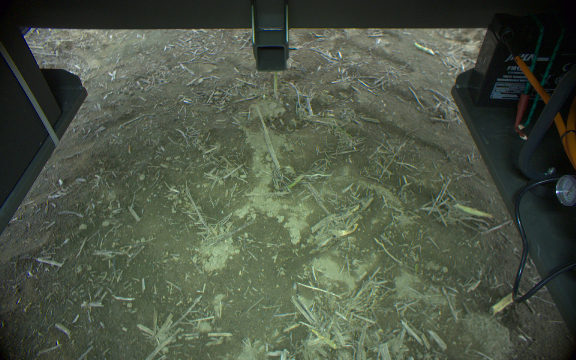aspa: (272, 71, 280, 98)
